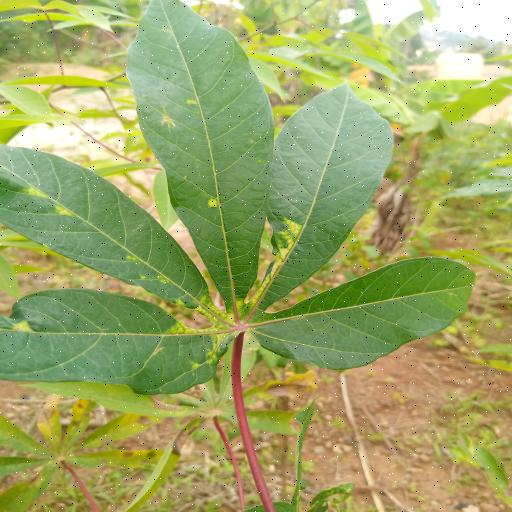Cassava_Mosaic: (0, 0, 486, 397)
